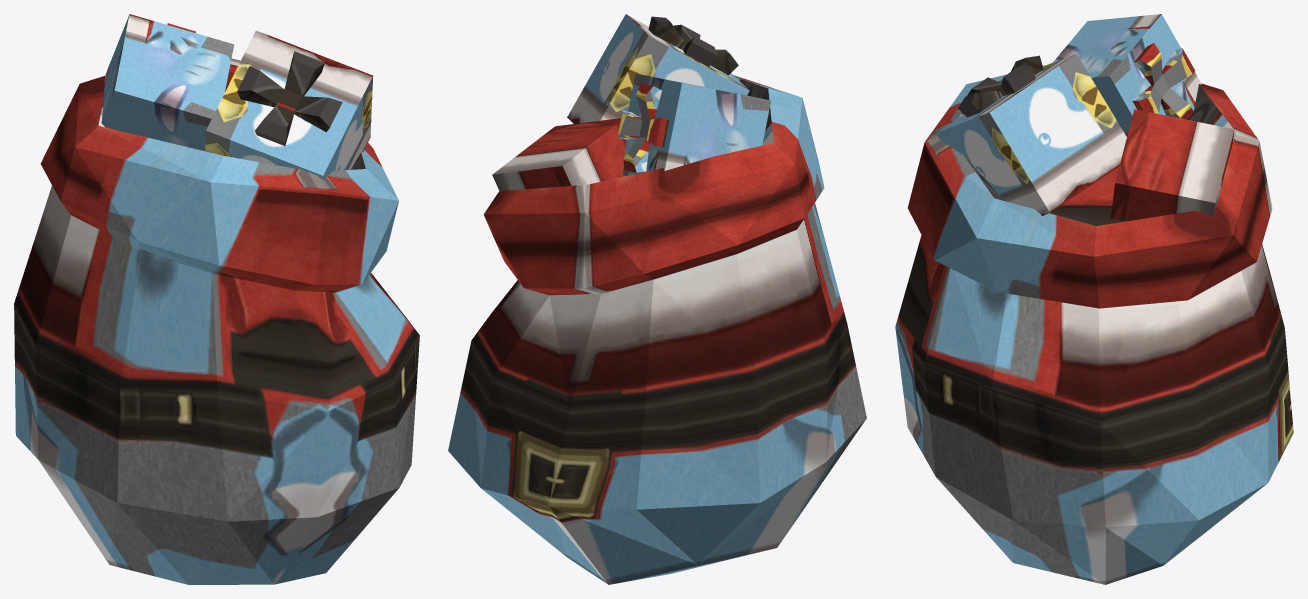
File: Penguin_santaBag.obj
The picture shows the model from 3 angles, left to right: view 1: azimuth 30°, elevation 25°; view 2: azimuth 150°, elevation 25°; view 3: azimuth 270°, elevation 25°; orthographic projection. The views are drawn at different scales.
Visible parts, largest first — view 1: Penguin_santaBag_tri; view 2: Penguin_santaBag_tri; view 3: Penguin_santaBag_tri.
Boxes of the visible parts, left/top/right/bottom form: Penguin_santaBag_tri: left=14, top=14, right=419, bottom=584; Penguin_santaBag_tri: left=448, top=14, right=866, bottom=584; Penguin_santaBag_tri: left=895, top=14, right=1293, bottom=584.
Bounding box in the file's own units: 0.4156 × 0.6169 × 0.4282.
Materials: 1 (1 with a texture image).
